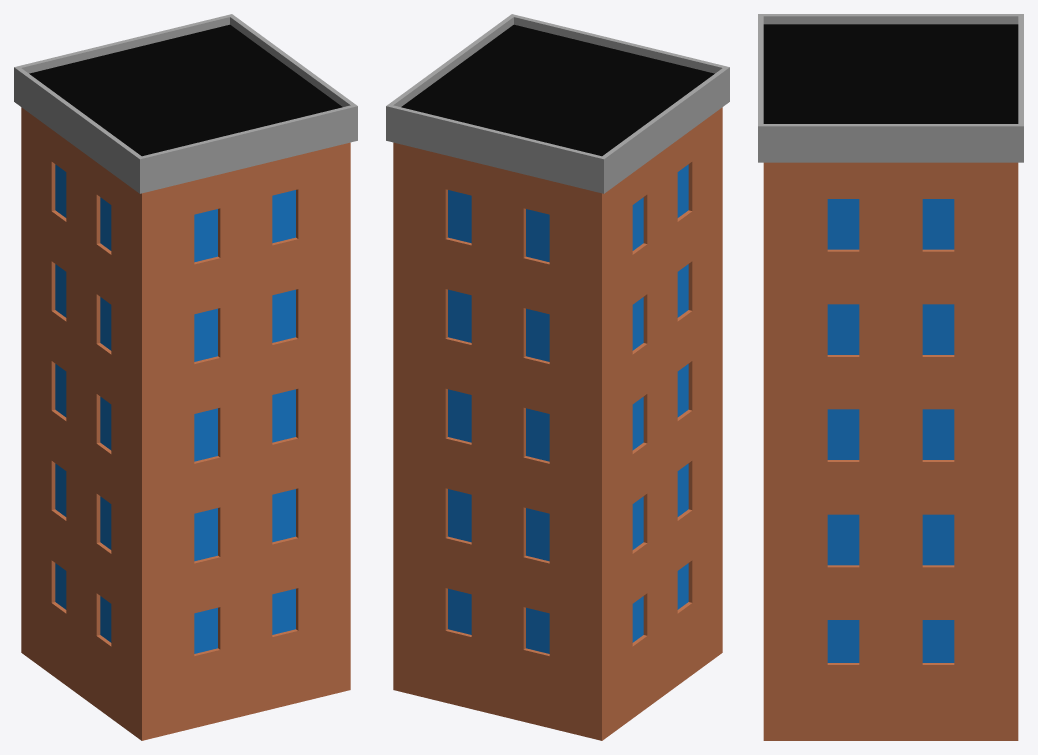
The model's file is Basic_Sky_Scraper_Medium.fbx.
3 renders of one model, left to right at view 1: azimuth 30°, elevation 25°; view 2: azimuth 150°, elevation 25°; view 3: azimuth 270°, elevation 25°, orthographic. The views are drawn at different scales.
Parts seen in each view (by area): view 1: Basic_Mediu; view 2: Basic_Mediu; view 3: Basic_Mediu.
Part boxes in pixels (box(x1,y1,x2,y2)): Basic_Mediu: box(14, 14, 357, 740); Basic_Mediu: box(386, 14, 729, 740); Basic_Mediu: box(758, 14, 1023, 740).
Bounding box in the file's own units: 208 × 208 × 532.
